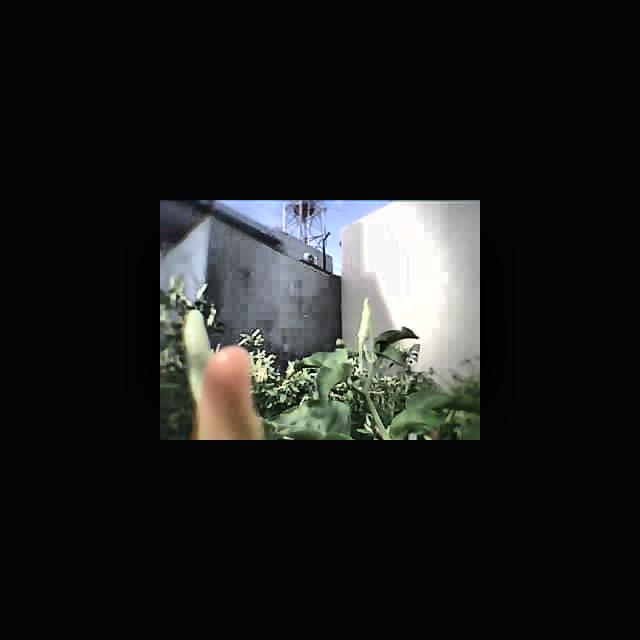Cabai: (200, 352, 263, 440)
